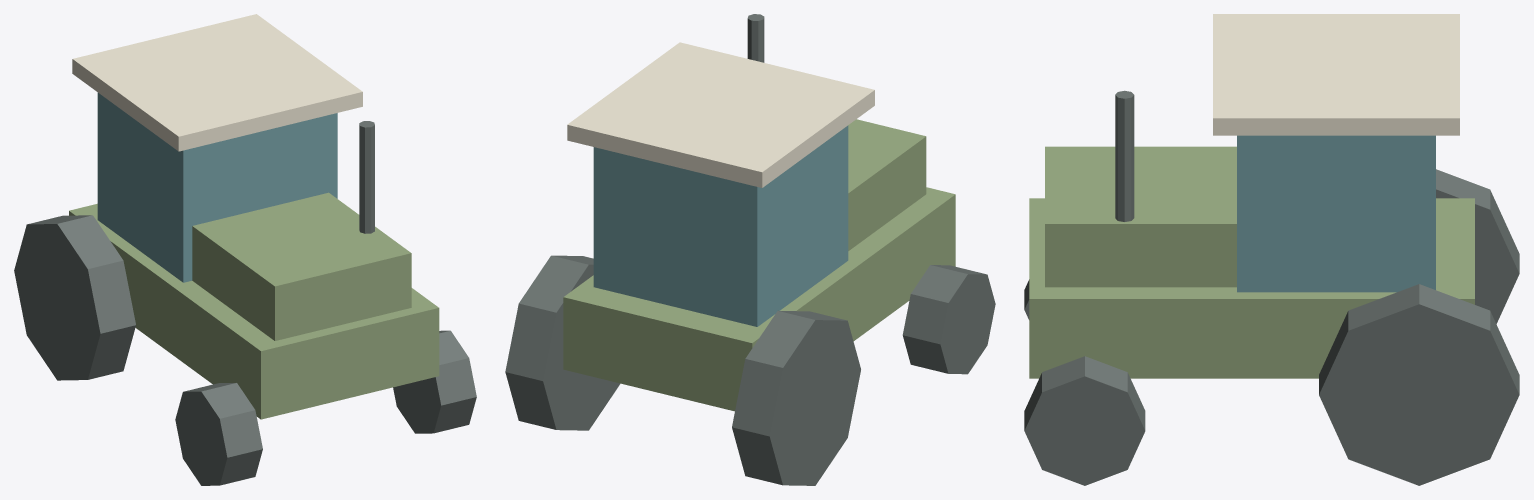
3 renders of one model, left to right at view 1: azimuth 30°, elevation 25°; view 2: azimuth 150°, elevation 25°; view 3: azimuth 270°, elevation 25°, orthographic. The views are drawn at different scales.
Bounding box in the file's own units: 2.1 × 2.45 × 3.11.
